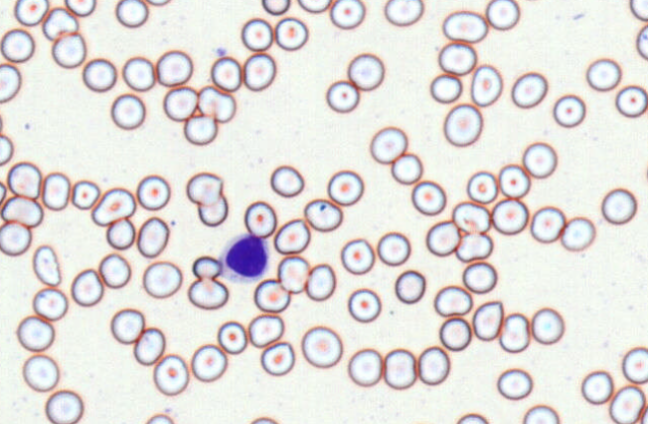MONO: (218, 233, 271, 285)
RBC: (301, 325, 342, 368), (91, 187, 135, 226), (443, 103, 482, 146), (142, 260, 182, 298), (153, 353, 189, 395), (442, 10, 487, 43), (369, 126, 407, 164), (190, 343, 227, 382), (22, 354, 59, 392), (347, 52, 384, 90), (491, 198, 528, 235), (609, 385, 645, 423), (16, 315, 54, 351), (347, 347, 382, 386), (383, 348, 416, 389), (136, 216, 169, 257), (1, 195, 43, 227), (470, 64, 502, 106), (601, 187, 637, 224), (273, 218, 310, 254), (156, 49, 192, 86), (511, 71, 547, 108), (185, 171, 223, 206), (530, 205, 565, 243), (417, 345, 450, 385), (187, 277, 228, 309), (327, 169, 363, 205), (51, 31, 86, 68), (110, 93, 145, 130), (253, 278, 290, 313), (522, 141, 557, 178), (45, 389, 83, 423), (7, 161, 41, 199), (438, 41, 476, 75), (303, 198, 342, 231), (243, 52, 276, 91), (425, 220, 460, 256), (560, 216, 596, 251), (110, 307, 144, 344), (340, 237, 374, 274), (70, 268, 103, 306), (243, 200, 276, 238), (452, 201, 490, 234), (531, 306, 564, 344), (411, 180, 446, 215), (260, 341, 295, 376), (163, 85, 197, 121), (347, 287, 381, 323), (248, 313, 284, 347), (136, 174, 170, 210), (133, 327, 165, 365), (277, 255, 309, 293), (376, 231, 410, 266), (586, 57, 621, 91), (98, 252, 131, 288), (305, 263, 336, 301), (0, 28, 34, 62), (82, 58, 116, 92), (274, 16, 308, 50), (32, 287, 67, 320), (438, 316, 471, 351), (462, 260, 497, 293), (496, 368, 532, 400), (455, 232, 493, 262), (41, 171, 70, 210), (270, 164, 304, 197), (326, 79, 359, 113), (122, 56, 154, 91), (498, 163, 530, 198), (552, 94, 585, 127), (581, 370, 613, 404), (241, 17, 273, 51), (394, 269, 425, 304), (0, 220, 31, 255), (210, 56, 241, 91), (390, 152, 423, 184), (466, 170, 498, 203), (615, 84, 647, 117), (329, 0, 365, 29), (183, 115, 217, 145), (217, 320, 247, 354), (485, 0, 519, 30), (384, 0, 423, 26), (105, 217, 135, 250), (429, 73, 462, 103), (621, 346, 647, 383), (197, 195, 228, 226), (115, 0, 148, 27), (14, 0, 48, 26), (71, 179, 100, 209), (0, 63, 21, 103), (522, 404, 559, 423), (192, 255, 221, 279), (64, 0, 96, 16), (297, 0, 331, 13), (261, 0, 290, 15), (636, 24, 648, 60), (0, 134, 13, 165), (629, 0, 648, 21), (455, 413, 488, 423), (144, 413, 174, 423), (248, 416, 278, 423), (145, 0, 171, 6), (0, 180, 6, 205), (640, 405, 648, 423), (0, 108, 3, 133), (645, 160, 648, 183)
Schistocyte: (196, 85, 240, 123), (434, 284, 474, 317), (34, 245, 65, 287), (499, 313, 531, 353), (472, 300, 504, 339), (43, 8, 79, 40)
